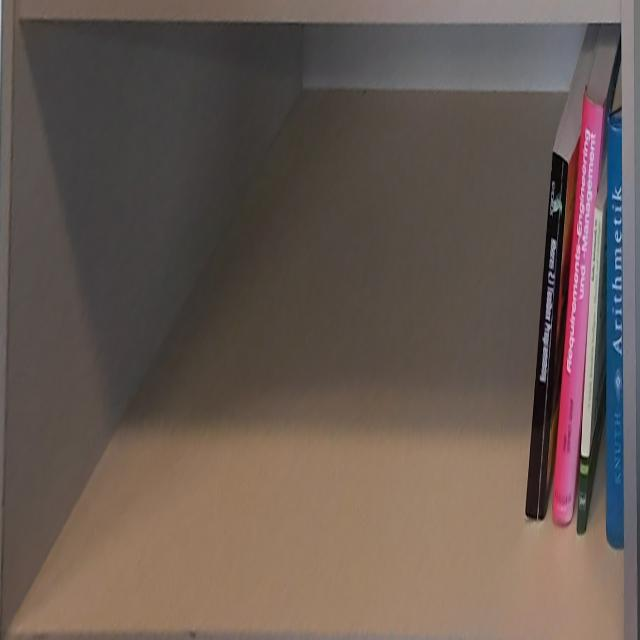Book Spine: (552, 95, 604, 527), (525, 150, 569, 520), (575, 209, 601, 536), (606, 117, 623, 549)
